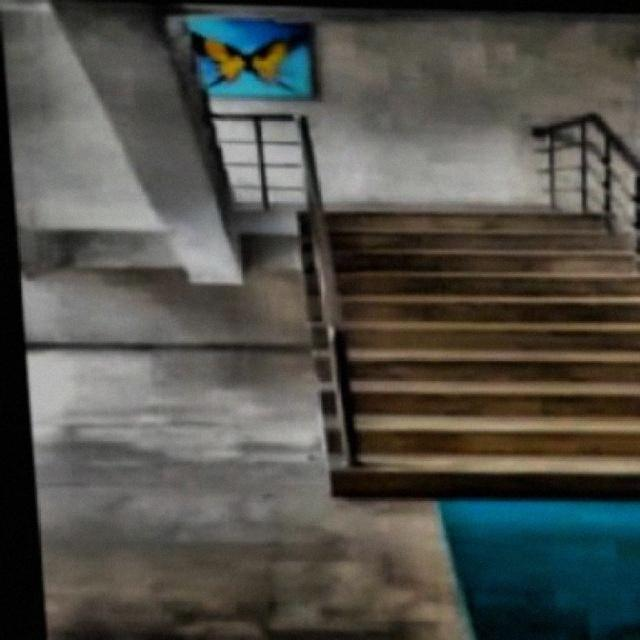stair: (296, 206, 638, 504)
